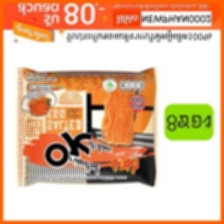snack: (9, 63, 164, 194)
